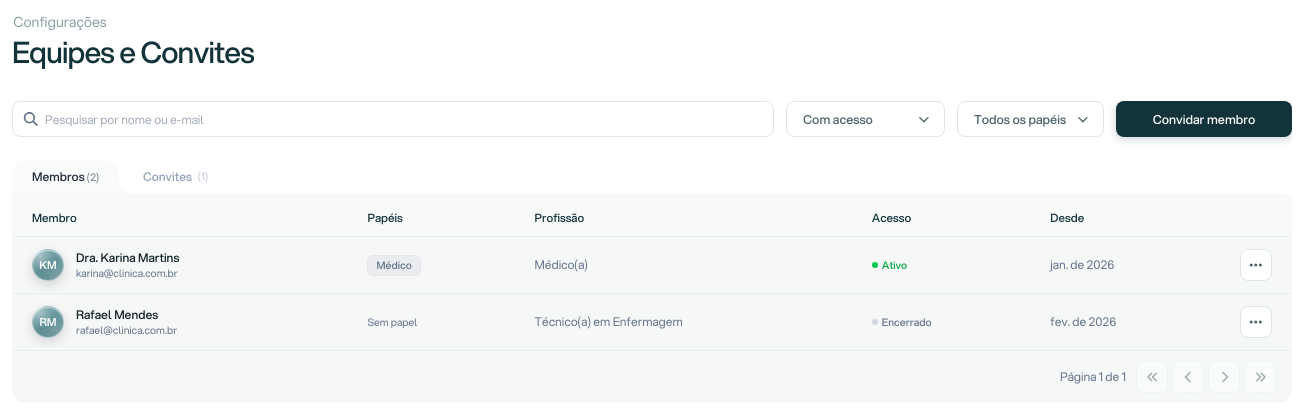
Test: gestão de equipe › lista membros e convites vindos do servidor
Expected: the text "Dra. Karina Martins" is shown, left=76, top=250, right=179, bottom=266
Expected: the text "Rafael Mendes" is shown, left=76, top=306, right=158, bottom=323
Click the tab "Convites (1)": (176, 177) left=123, top=161, right=228, bottom=193
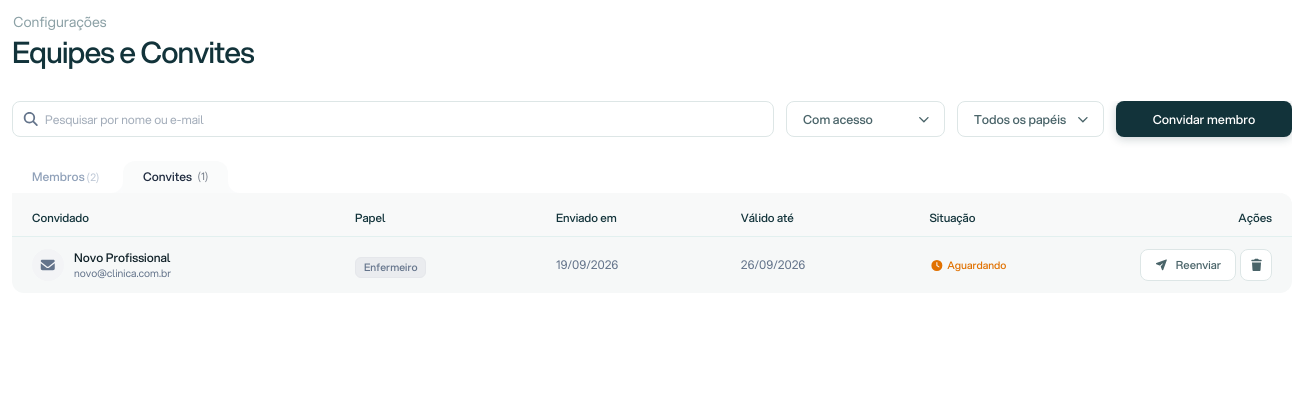
Result: the text "novo@clinica.com.br" is shown at left=74, top=266, right=171, bottom=281
Result: the text "Aguardando" is shown at left=930, top=258, right=1006, bottom=272
